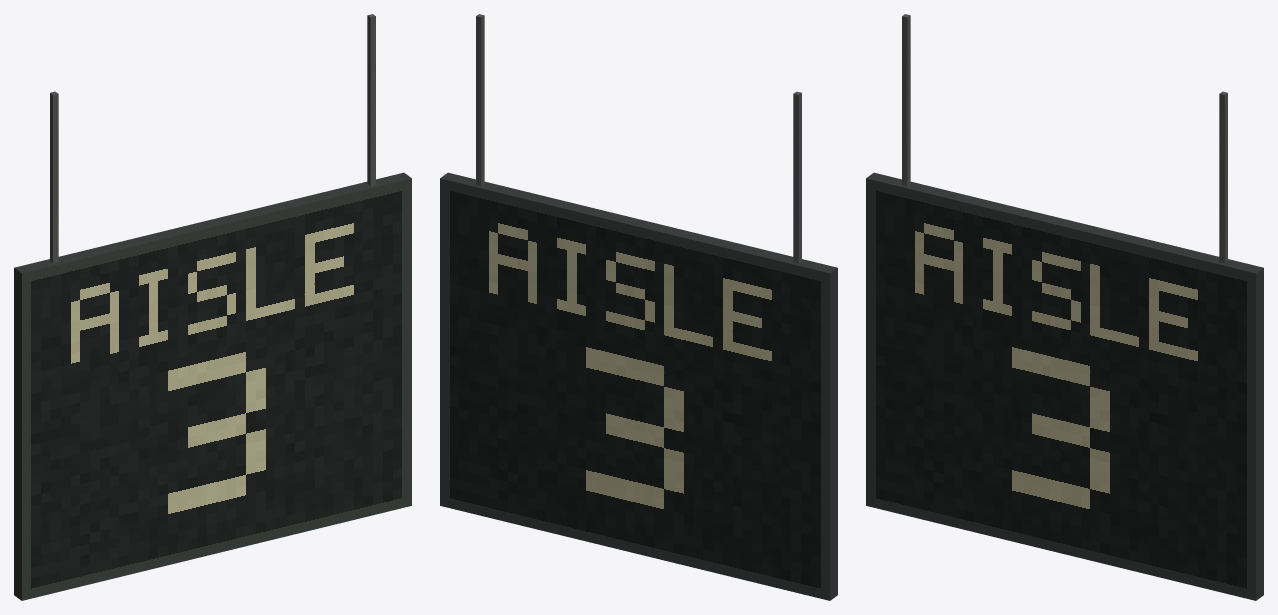
The model's file is sign_aisle_3.glb.
The picture shows the model from 3 angles, left to right: view 1: azimuth 30°, elevation 25°; view 2: azimuth 150°, elevation 25°; view 3: azimuth 330°, elevation 25°; orthographic projection.
Visible parts, largest first — view 1: SignAisle3; view 2: SignAisle3; view 3: SignAisle3.
Boxes of the visible parts, <box> form: SignAisle3: <box>14,14,411,600</box>; SignAisle3: <box>440,14,837,600</box>; SignAisle3: <box>866,14,1263,600</box>.
Size of the model in its own units: 0.86 by 1.04 by 0.03.
1 material, 1 textured.
